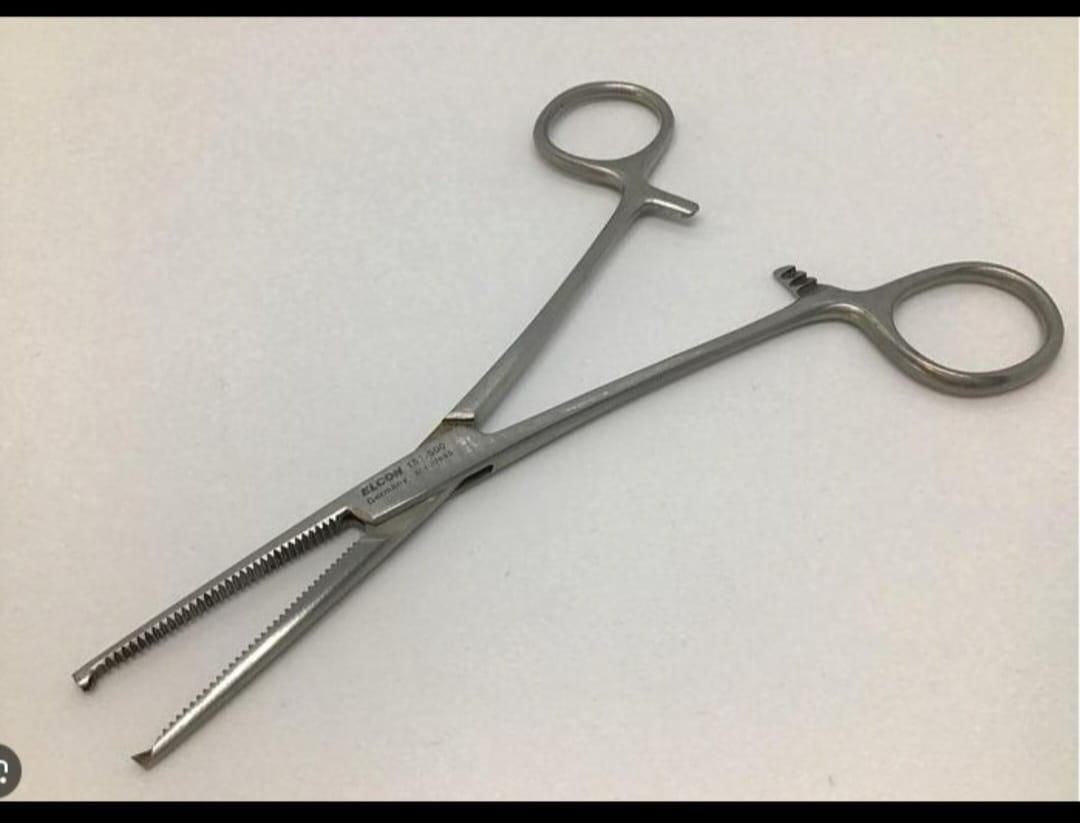Kocher Forceps: (71, 70, 1066, 775)
